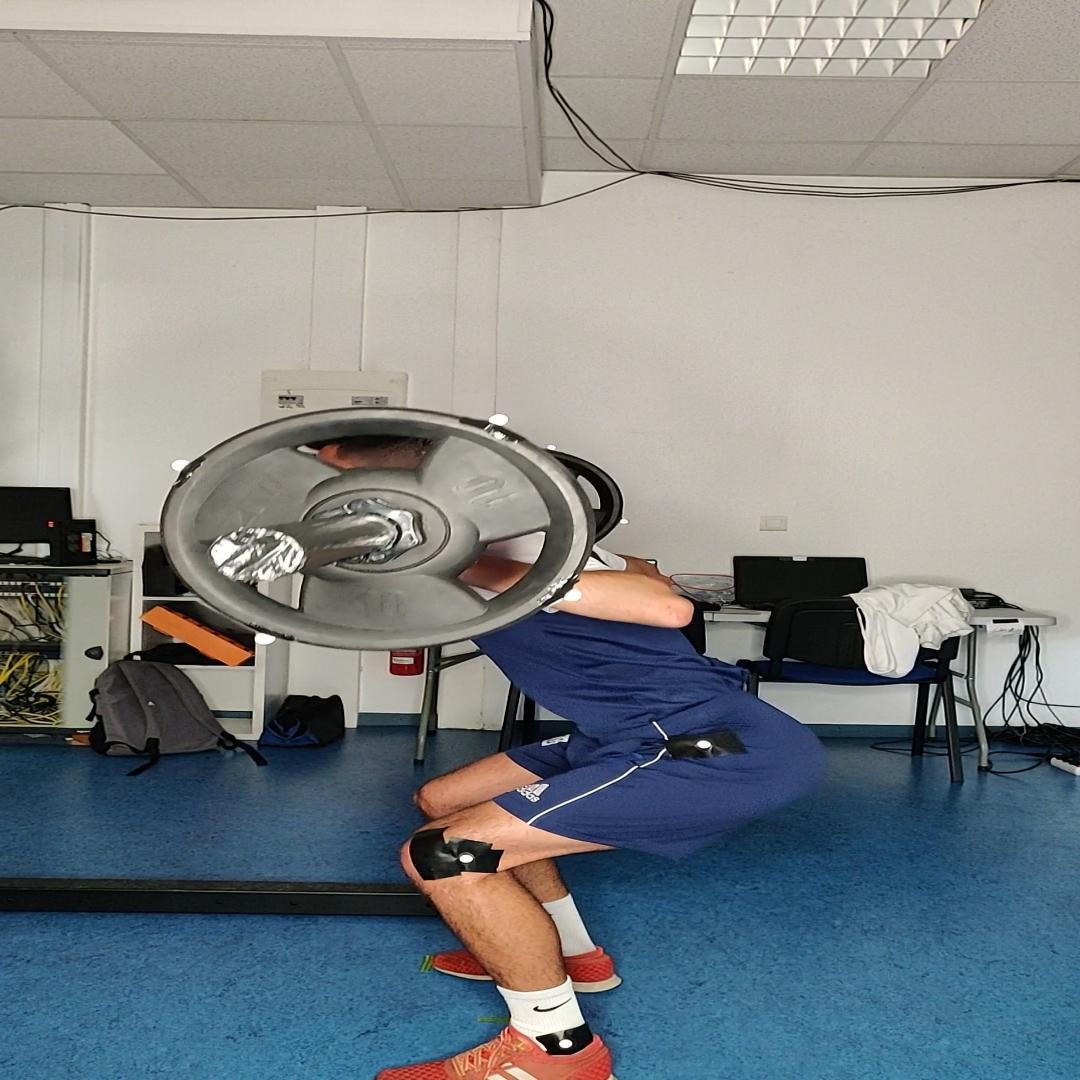Bar: (209, 527, 306, 582)
Barbell: (160, 406, 596, 651)
